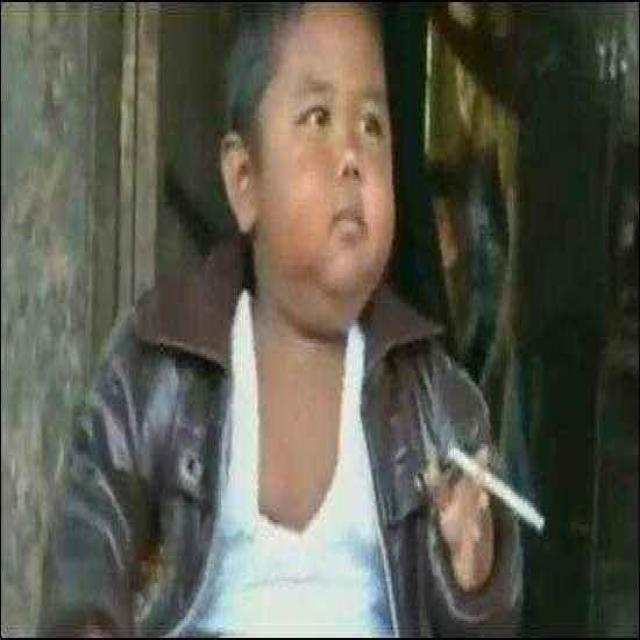cigarette: (444, 425, 546, 548)
